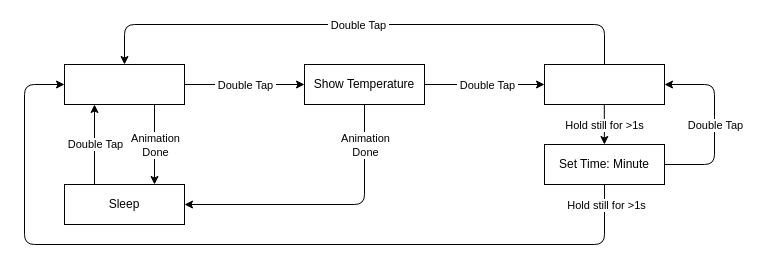
Some shapes in this 760 by 270 pixel diagram are drawn without their labels. Here are the shapes that lost their labels. From the top down, the centre of each, then its label:
At (124,84): "Show Time".
At (604,84): "Set Time: Hour".
